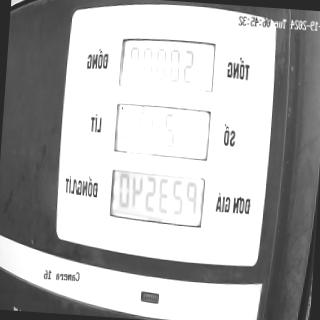screen: (106, 35, 218, 228)
